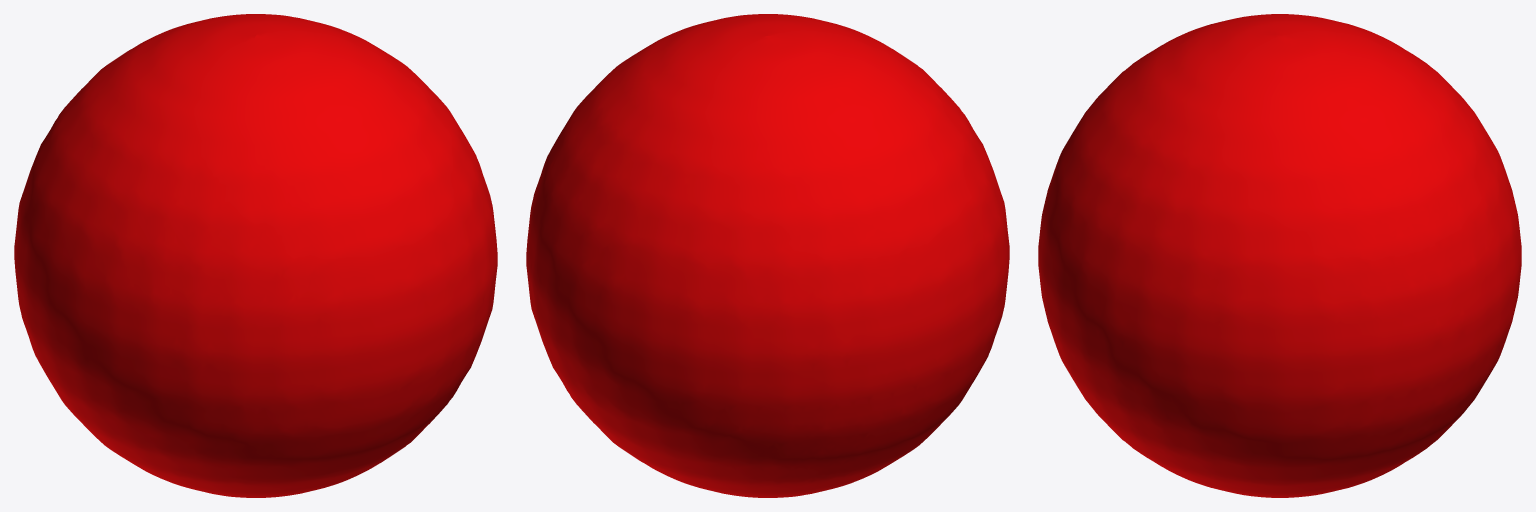
The model's file is smooth_ball.gltf.
3 renders of one model, left to right at view 1: azimuth 30°, elevation 25°; view 2: azimuth 150°, elevation 25°; view 3: azimuth 270°, elevation 25°, orthographic.
Parts seen in each view (by area): view 1: Sphere; view 2: Sphere; view 3: Sphere.
Boxes of the visible parts, box(x1,y1,x2,y2) form: Sphere: box(14, 14, 497, 497); Sphere: box(526, 14, 1009, 497); Sphere: box(1038, 14, 1521, 497).
Bounding box in the file's own units: 1.99 × 2 × 1.99.
